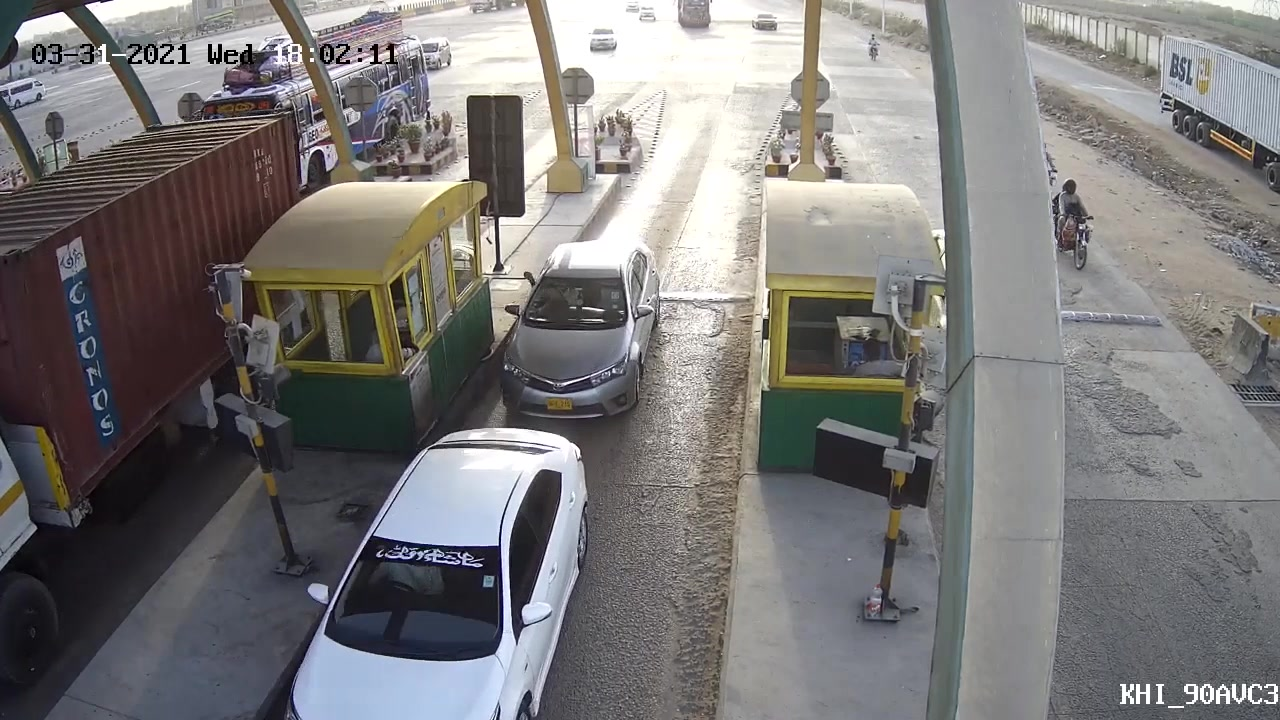F1: (497, 232, 672, 424)
